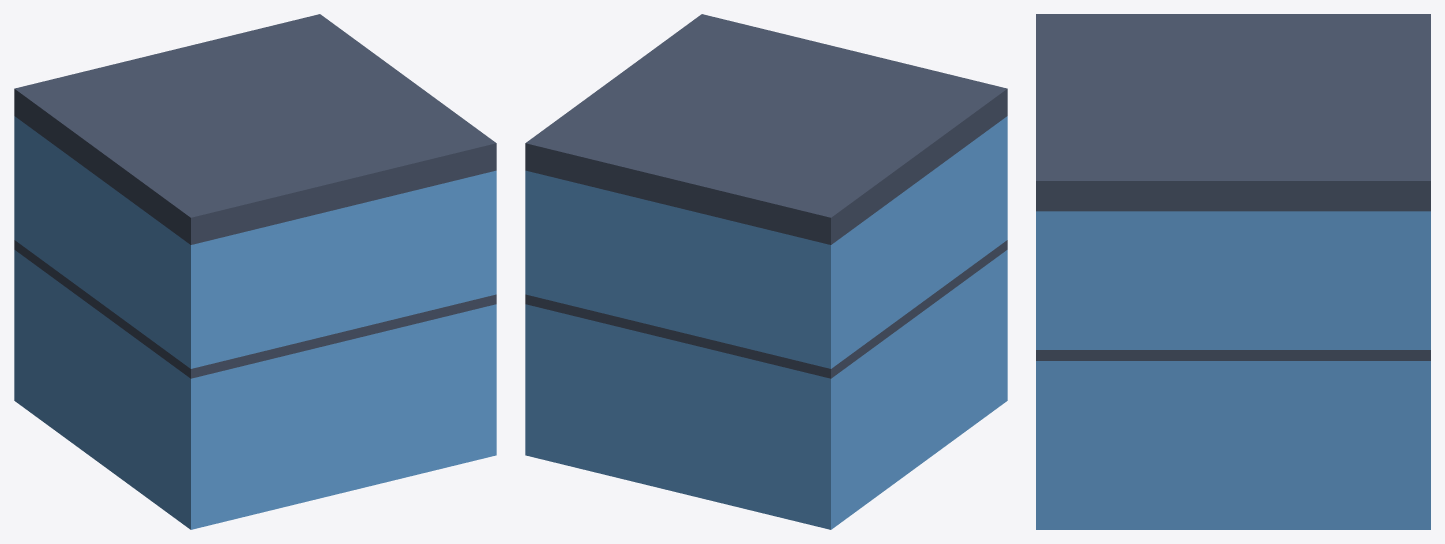
File: building_1x1_9_f.glb
The picture shows the model from 3 angles, left to right: view 1: azimuth 30°, elevation 25°; view 2: azimuth 150°, elevation 25°; view 3: azimuth 270°, elevation 25°; orthographic projection. The views are drawn at different scales.
Visible parts, largest first — view 1: Cube.007; view 2: Cube.007; view 3: Cube.007.
Boxes of the visible parts, x1,y1,x2,y2 form: Cube.007: (14, 14, 496, 529); Cube.007: (525, 14, 1007, 529); Cube.007: (1036, 14, 1430, 529).
Size of the model in its own units: 1.64 by 1.6 by 1.64.
